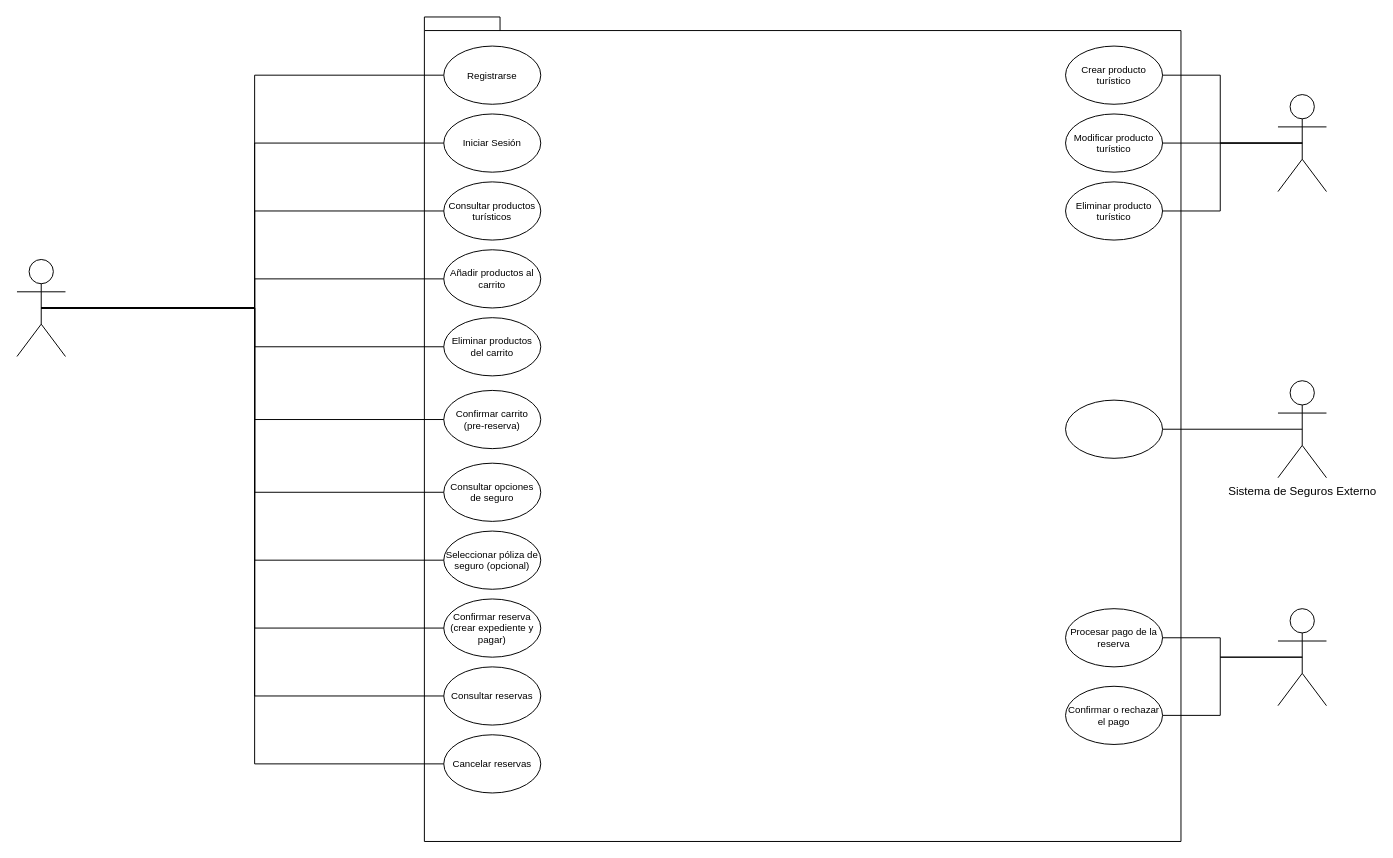
Image size: 1393x858. Some labels were removed from this diagram. The shapes that lost their labels are listed below. From the top down, each one's box as (x1, y1, x2, y2) in pixels, then its label:
(1277, 94, 1326, 192): Admin
(16, 259, 65, 356): Cliente
(423, 16, 1181, 841): Sistema: Agencias de Viajes On-line
(1065, 399, 1163, 458): Ofrecer pólizas de seguro
(1277, 608, 1326, 706): Pasarela de Pago
